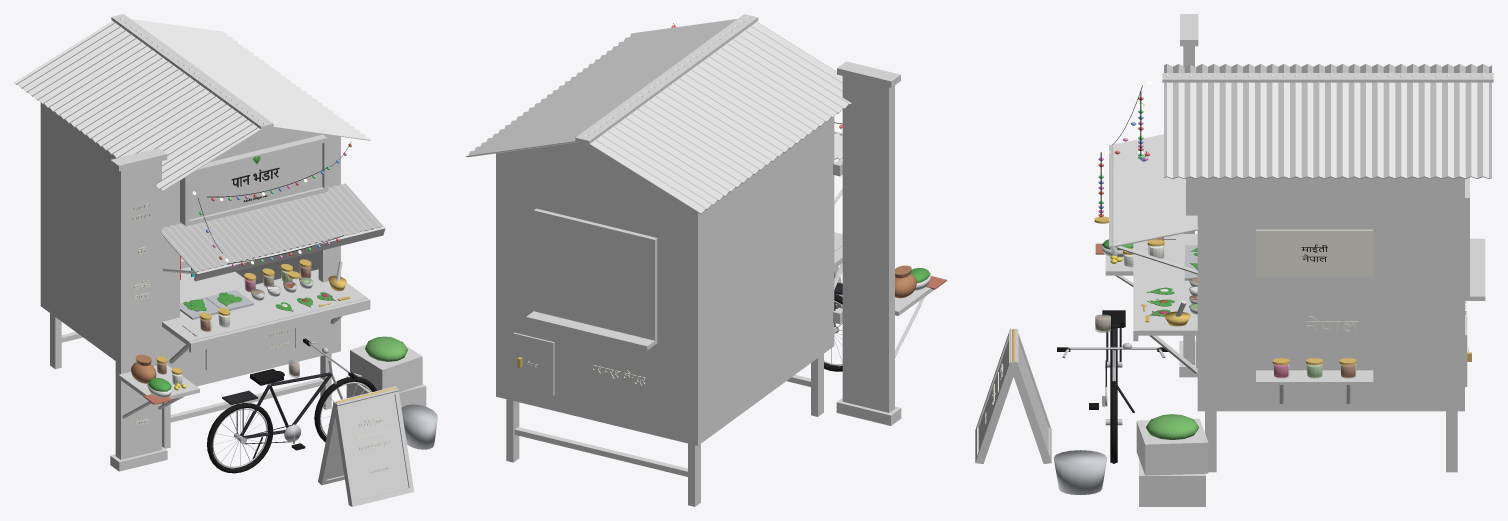
File: paan_dukan.fbx
3 renders of one model, left to right at view 1: azimuth 30°, elevation 25°; view 2: azimuth 150°, elevation 25°; view 3: azimuth 270°, elevation 25°, orthographic. The views are drawn at different scales.
Parts seen in each view (by area): view 1: Roof_L, LeftWall, SidePanel, FrontAwning, Roof_R, MainSign, ABoard_Front_Panel, CounterTop, FrontLowerPanel, Floor, RidgeCap, Crate_1 (+23 smaller); view 2: LeftWall, Roof_L, SidePanel, BackWall_Lower, Roof_R, BackWall_Upper, BackWindow_Side_-1, BackWindow_Side_1, BackWall_Left, BackWall_Right, Floor, RidgeCap (+11 smaller); view 3: RightWall, Roof_R, FrontAwning, Ad_RightWall_Plate, CounterTop, RidgeCap, Crate_1, Roof_L, Floor, Crate_0, Bucket, RightShelf (+12 smaller).
Boxes of the visible parts, box(x1,y1,x2,y2) form: Roof_L: box(14, 18, 267, 191); LeftWall: box(40, 102, 167, 364); SidePanel: box(115, 161, 161, 459); FrontAwning: box(162, 183, 383, 272); Roof_R: box(120, 18, 370, 140); MainSign: box(189, 143, 322, 219); ABoard_Front_Panel: box(341, 394, 408, 500); CounterTop: box(162, 269, 367, 345); FrontLowerPanel: box(180, 321, 322, 380); Floor: box(40, 265, 340, 386); RidgeCap: box(111, 14, 273, 129); Crate_1: box(350, 336, 422, 392); LeftWall: box(691, 116, 834, 437); Roof_L: box(585, 16, 851, 213); SidePanel: box(842, 76, 894, 412); BackWall_Lower: box(502, 305, 691, 435); Roof_R: box(466, 17, 751, 157); BackWall_Upper: box(502, 151, 691, 250); BackWindow_Side_-1: box(594, 230, 657, 344); BackWindow_Side_1: box(533, 216, 594, 325); BackWall_Left: box(657, 243, 691, 351); BackWall_Right: box(502, 205, 533, 312); Floor: box(496, 338, 834, 445); RidgeCap: box(575, 14, 758, 144); RightWall: box(1197, 177, 1464, 402); Roof_R: box(1164, 74, 1491, 178); FrontAwning: box(1113, 134, 1198, 247); Ad_RightWall_Plate: box(1256, 229, 1373, 276); CounterTop: box(1138, 234, 1229, 335); RidgeCap: box(1162, 73, 1493, 82); Crate_1: box(1136, 418, 1208, 475); Roof_L: box(1164, 64, 1491, 77); Floor: box(1197, 403, 1464, 411); Crate_0: box(1139, 459, 1205, 506); Bucket: box(1054, 450, 1106, 494); RightShelf: box(1256, 370, 1373, 384).
Size of the model in its own units: 326 by 343 by 454.
